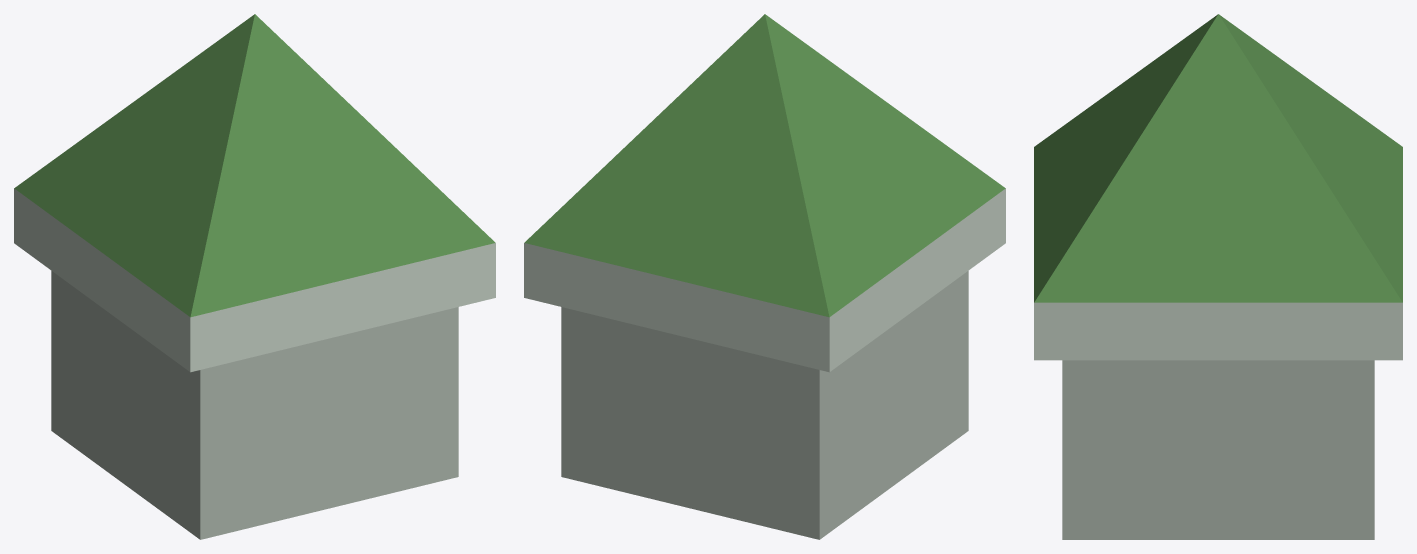
File: tile_054.fbx
3 views of the same model, side by side, from view 1: azimuth 30°, elevation 25°; view 2: azimuth 150°, elevation 25°; view 3: azimuth 270°, elevation 25° (orthographic). The views are drawn at different scales.
Parts seen in each view (by area): view 1: tile_054; view 2: tile_054; view 3: tile_054.
Part boxes in pixels (x1,y1,x2,y2): tile_054: (14,14,495,539); tile_054: (524,14,1005,539); tile_054: (1034,14,1402,539).
Bounding box in the file's own units: 6.97 × 9.6 × 6.97.
